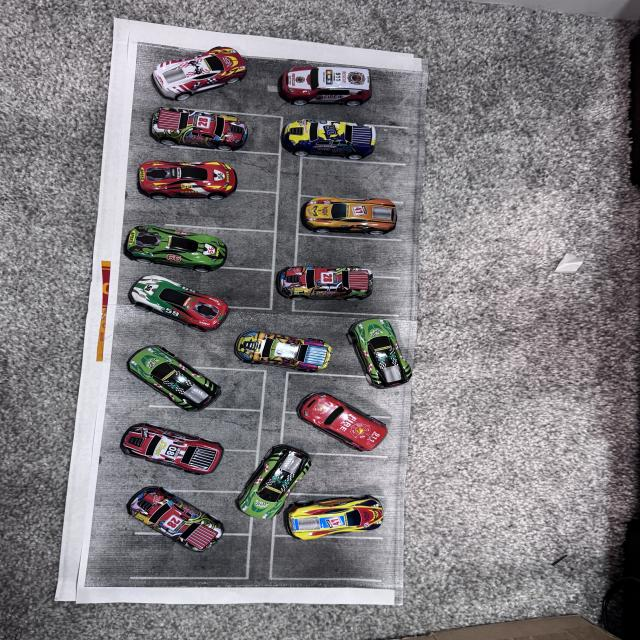Car: (118, 478, 252, 596), (91, 410, 232, 484), (123, 336, 219, 430), (98, 273, 224, 341), (336, 315, 448, 389), (276, 395, 402, 456), (268, 54, 399, 112), (116, 218, 234, 282), (287, 187, 419, 243), (138, 100, 264, 156), (128, 154, 248, 210), (268, 114, 408, 158), (238, 436, 308, 524), (284, 498, 402, 544), (268, 260, 381, 302), (144, 54, 247, 100), (242, 334, 324, 372)
